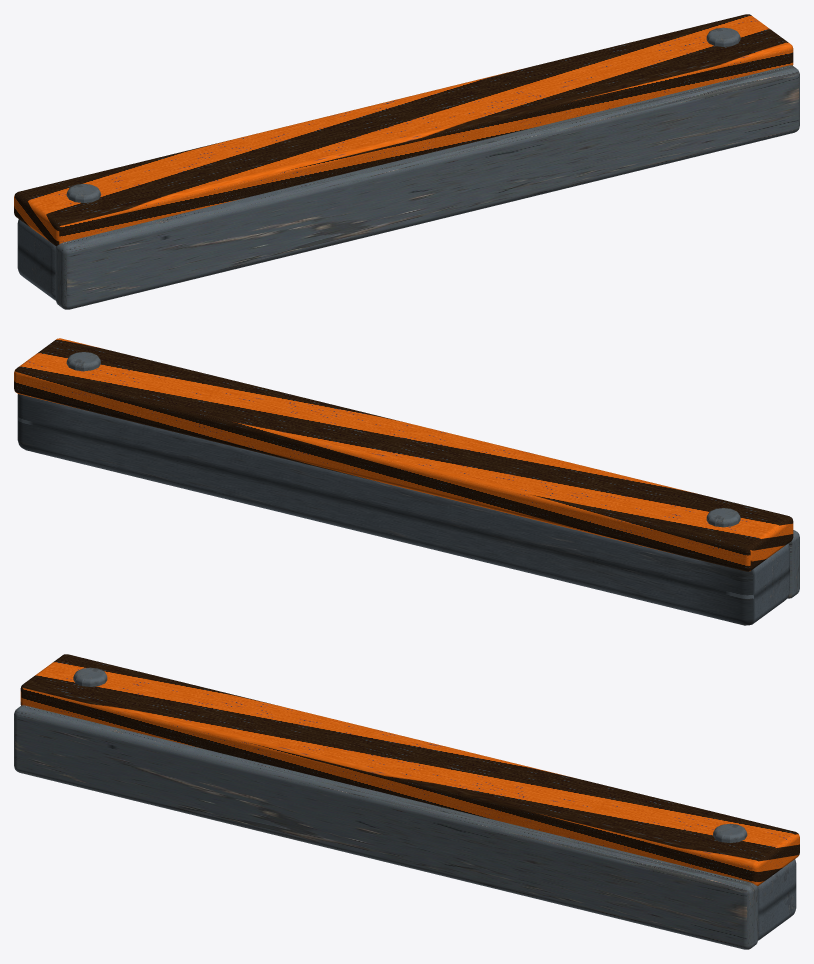
Rendered from deck_edge.glb.
3 renders of one model, top to bottom at view 1: azimuth 30°, elevation 25°; view 2: azimuth 150°, elevation 25°; view 3: azimuth 330°, elevation 25°, orthographic.
Parts seen in each view (by area): view 1: DeckEdgeRim, DeckEdgeHazard, DeckEdgePlate, DeckEdgeBolt0, DeckEdgeBolt1; view 2: DeckEdgeHazard, DeckEdgePlate, DeckEdgeRim, DeckEdgeBolt1, DeckEdgeBolt0; view 3: DeckEdgeRim, DeckEdgeHazard, DeckEdgePlate, DeckEdgeBolt1, DeckEdgeBolt0.
Boxes of the visible parts, left/top/right/bottom form: DeckEdgeRim: left=55, top=65, right=799, bottom=309; DeckEdgeHazard: left=14, top=14, right=793, bottom=245; DeckEdgePlate: left=17, top=219, right=55, bottom=300; DeckEdgeBolt0: left=706, top=27, right=740, bottom=46; DeckEdgeBolt1: left=66, top=183, right=100, bottom=202; DeckEdgeHazard: left=14, top=338, right=793, bottom=571; DeckEdgePlate: left=17, top=394, right=789, bottom=625; DeckEdgeRim: left=787, top=530, right=799, bottom=598; DeckEdgeBolt1: left=706, top=508, right=740, bottom=527; DeckEdgeBolt0: left=66, top=352, right=100, bottom=371; DeckEdgeRim: left=14, top=705, right=758, bottom=949; DeckEdgeHazard: left=20, top=654, right=799, bottom=885; DeckEdgePlate: left=758, top=859, right=796, bottom=940; DeckEdgeBolt1: left=73, top=667, right=107, bottom=686; DeckEdgeBolt0: left=713, top=823, right=747, bottom=842.
Size of the model in its own units: 6 by 0.7 by 0.74.
Materials: 4 (4 with a texture image).
